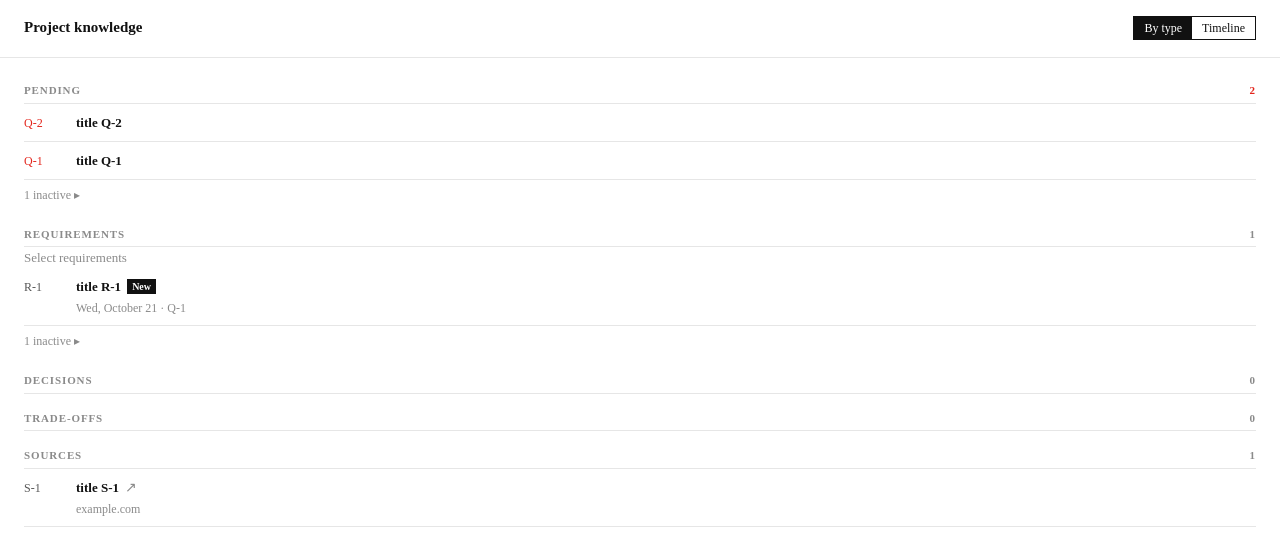
KnowledgePanel › loads the timeline when switched
The width and height of the screenshot is (1280, 544).
Click the button "Timeline".
click(1224, 28)  # box [1192,16,1255,38]
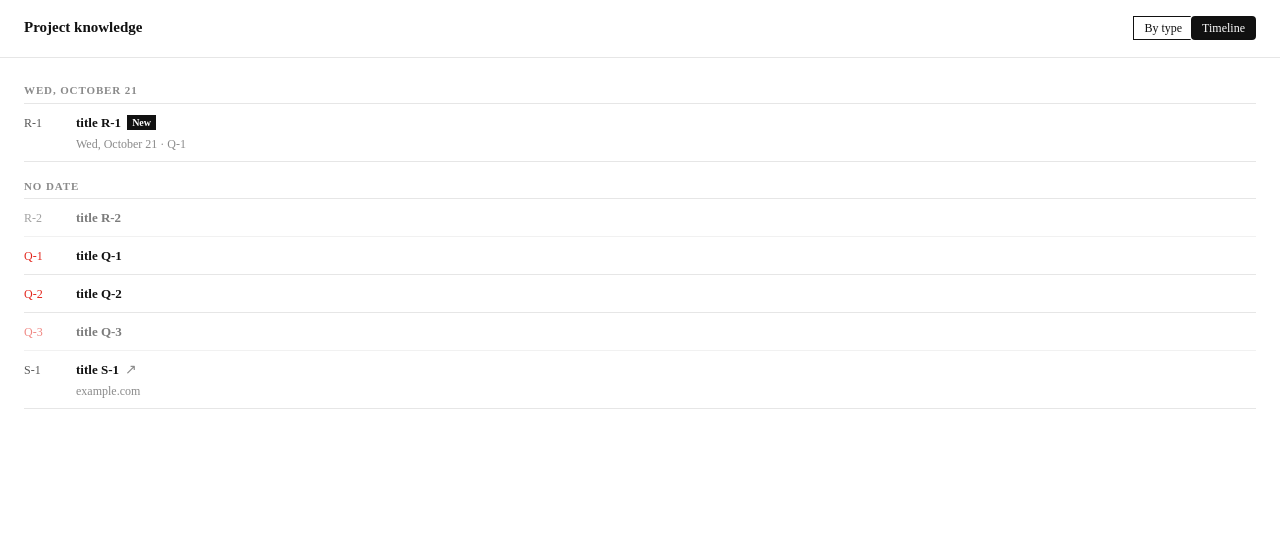
Expected: the text "No date" is shown, [24,178,79,194]
